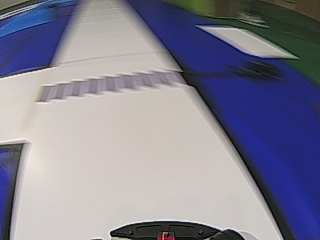CrossWalk: (32, 66, 190, 108)
